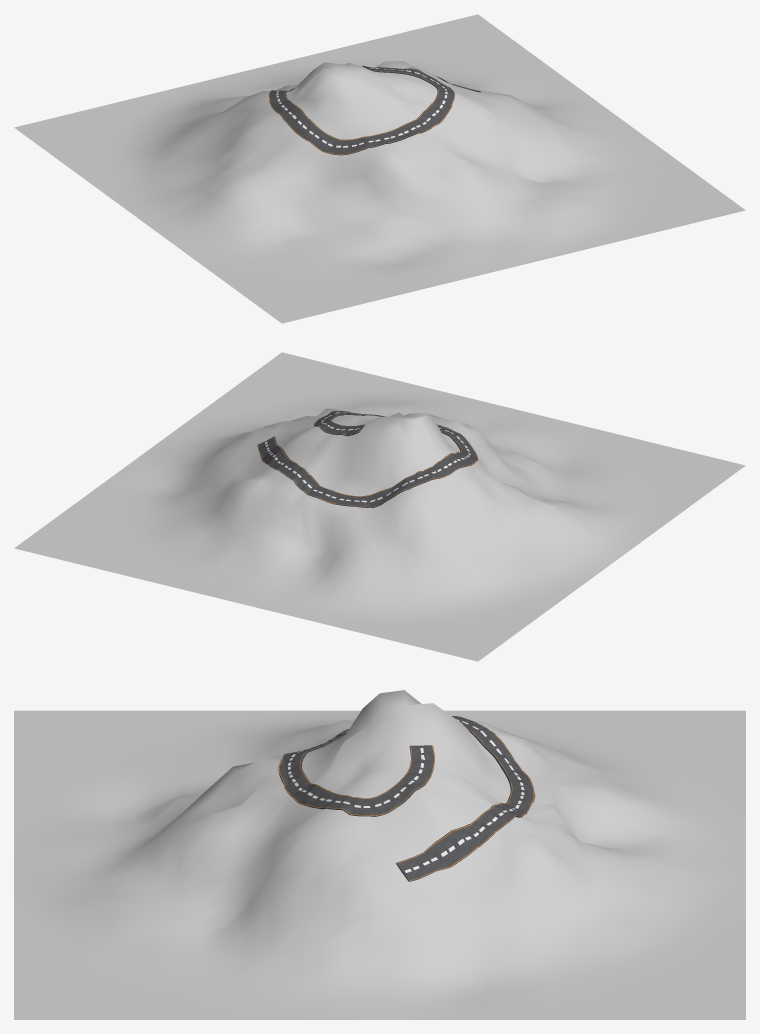
File: Level9B1.fbx
3 views of the same model, one above another, from view 1: azimuth 30°, elevation 25°; view 2: azimuth 150°, elevation 25°; view 3: azimuth 270°, elevation 25° (orthographic). The views are drawn at different scales.
Visible parts, largest first — view 1: Landscape, Plane; view 2: Landscape, Plane; view 3: Landscape, Plane.
Part boxes in pixels (left/top/right/bottom): Landscape: left=14, top=14, right=745, bottom=323; Plane: left=269, top=65, right=480, bottom=155; Landscape: left=14, top=352, right=745, bottom=661; Plane: left=257, top=411, right=478, bottom=508; Landscape: left=14, top=690, right=745, bottom=1019; Plane: left=278, top=716, right=535, bottom=881.
Size of the model in its own units: 9957 by 2236 by 9957.
